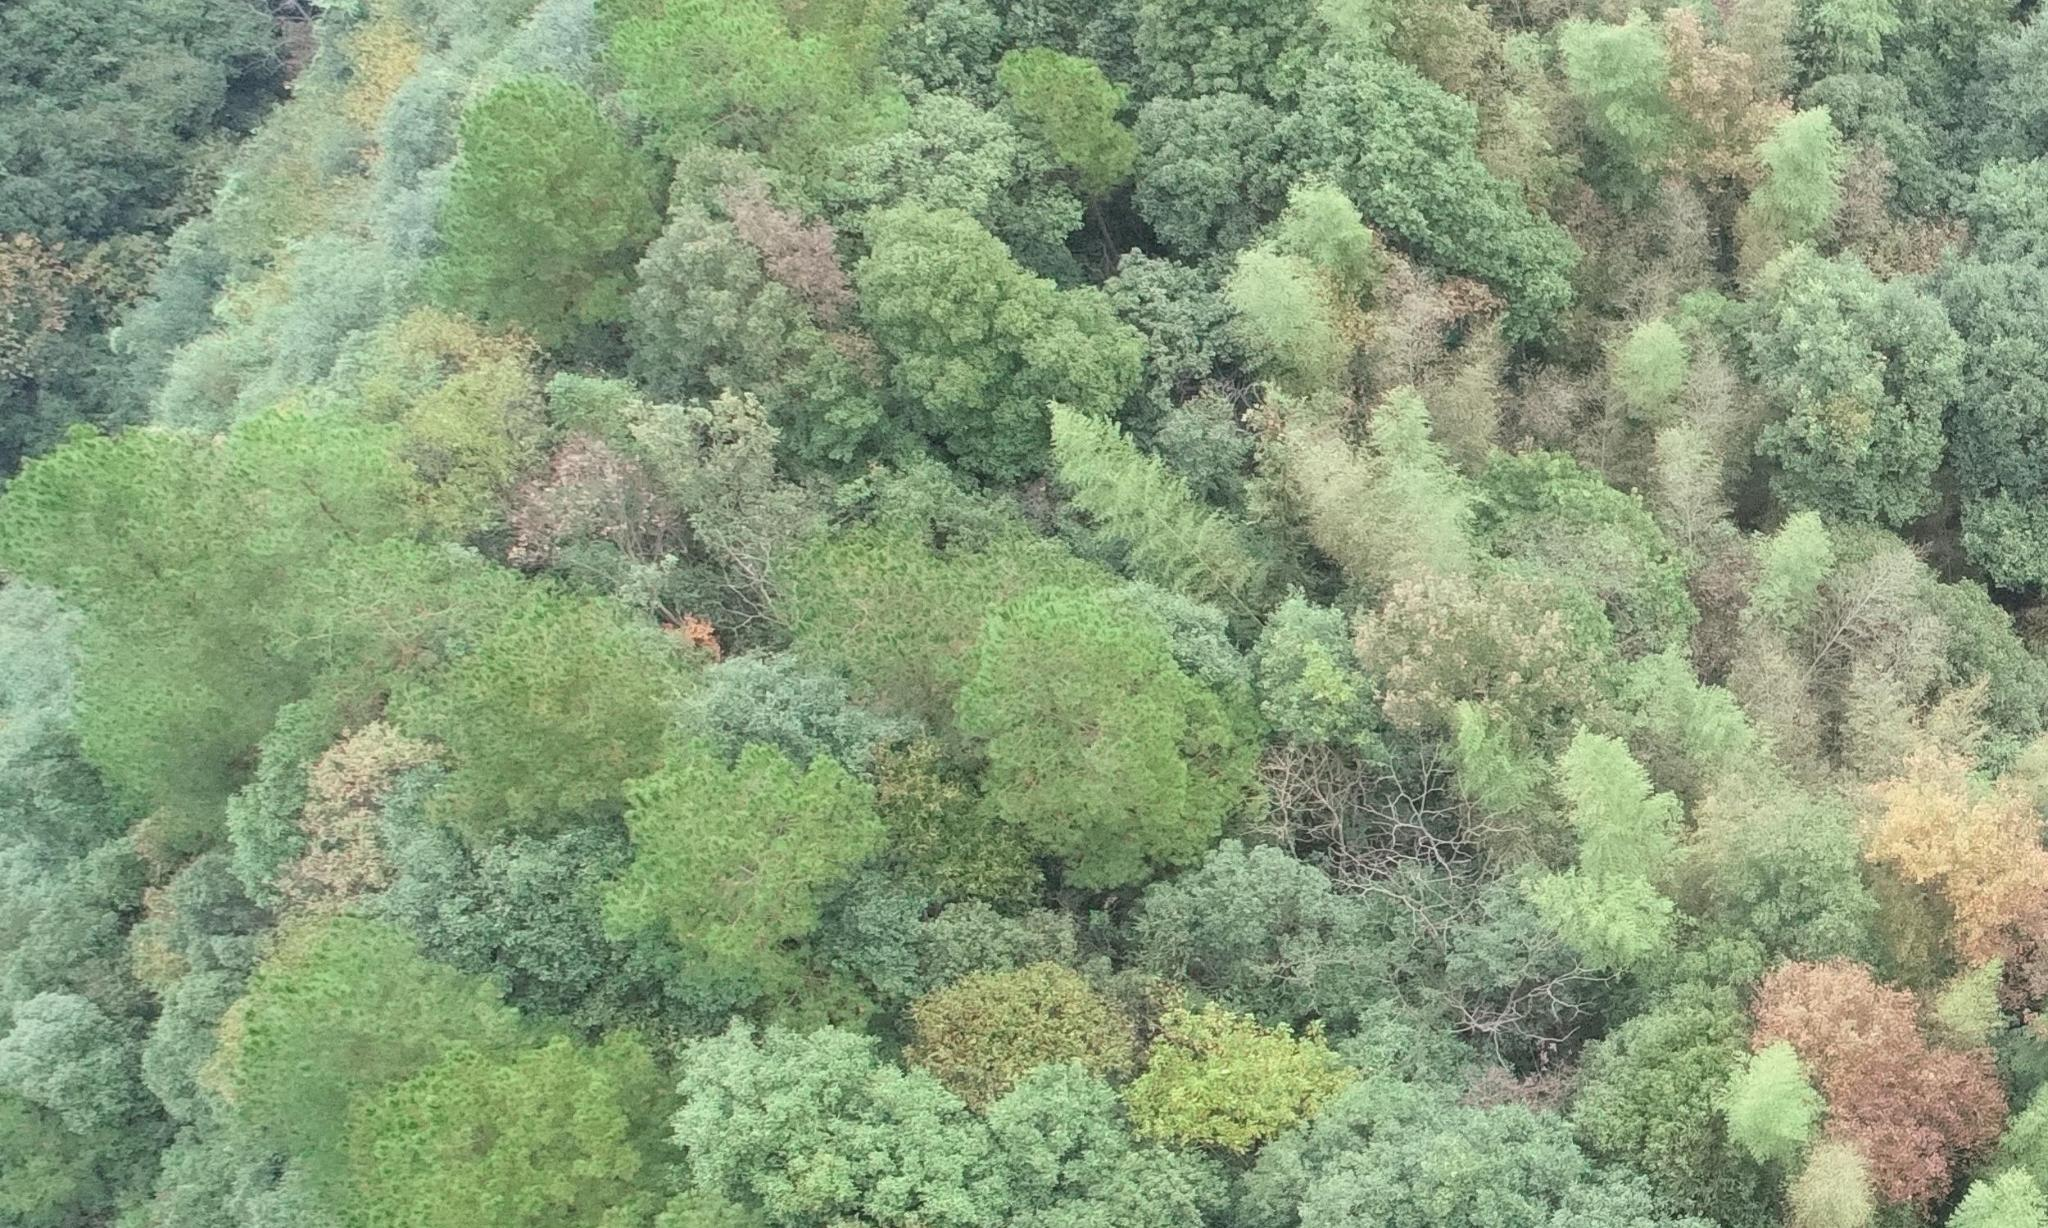heavy: (1726, 931, 2026, 1228)
